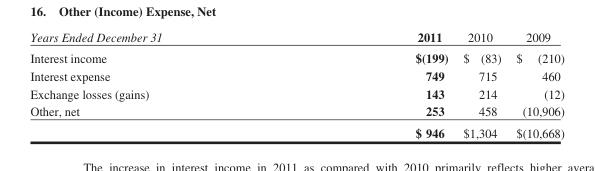table: (29, 29, 563, 139)
table column: (29, 29, 288, 139), (288, 29, 455, 139), (508, 29, 563, 139), (455, 29, 508, 139)
table column header: (29, 29, 563, 47)
table row: (29, 101, 563, 121), (29, 47, 563, 66), (29, 29, 563, 47), (29, 66, 563, 84), (29, 121, 563, 139), (29, 84, 563, 101)
